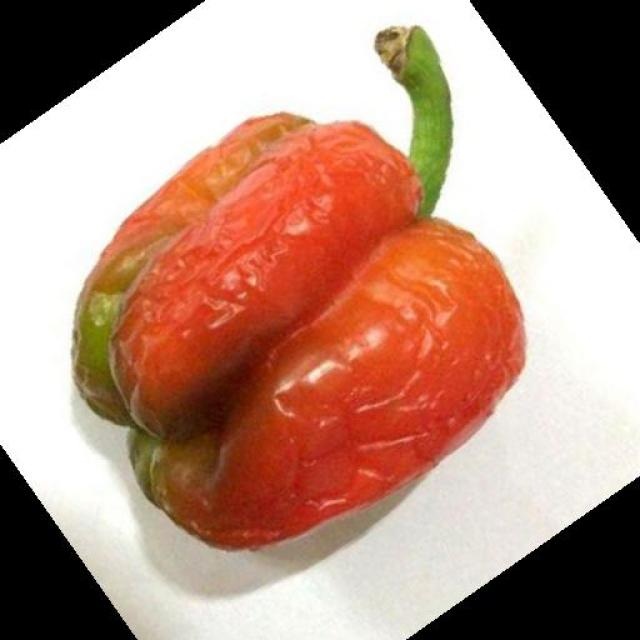Stale_Capsicum: (90, 95, 520, 527)
